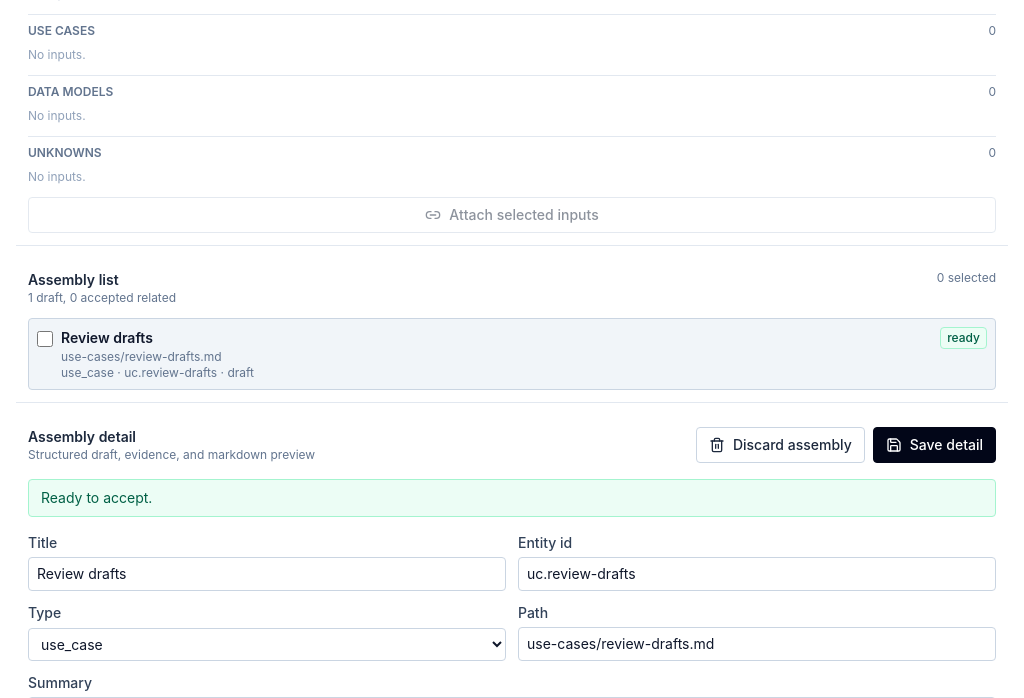
Test: AnalyzeRunReviewPage › shows a neutral partial accept message when some assemblies fail
(page scrolled)
What coordinates should you click on to do the following:
click the checkbox named "Select assembly Review drafts"
I would click on:
 (45, 339)
Its box is [37,331,53,347].
(page scrolled)
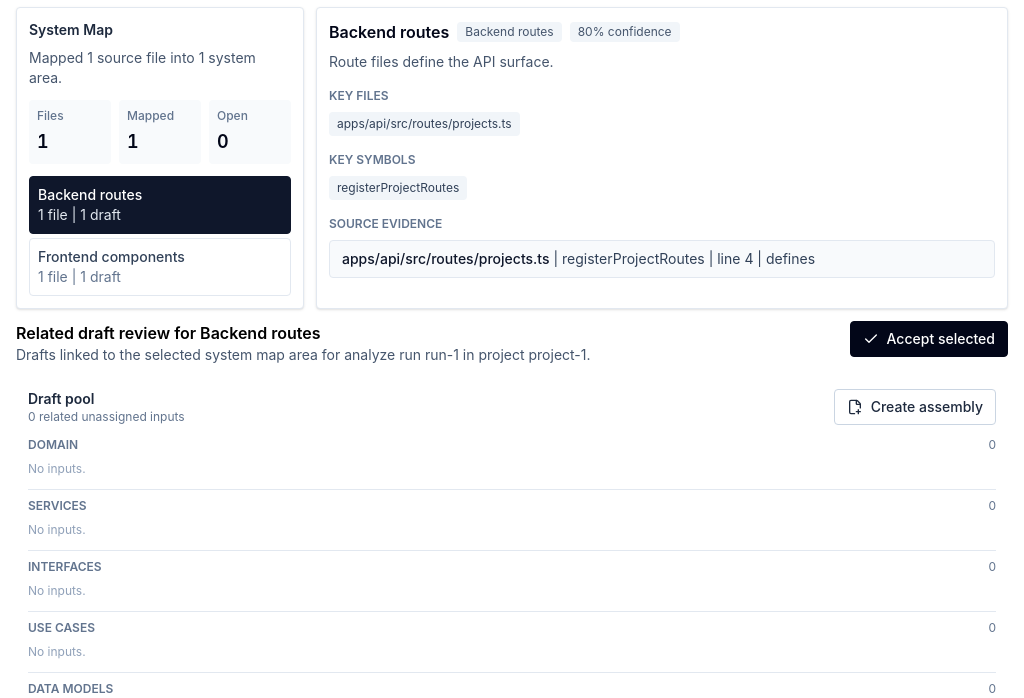
What coordinates should you click on to do the following:
click the button "Accept selected"
I would click on:
 (929, 339)
Its box is [850,321,1008,357].
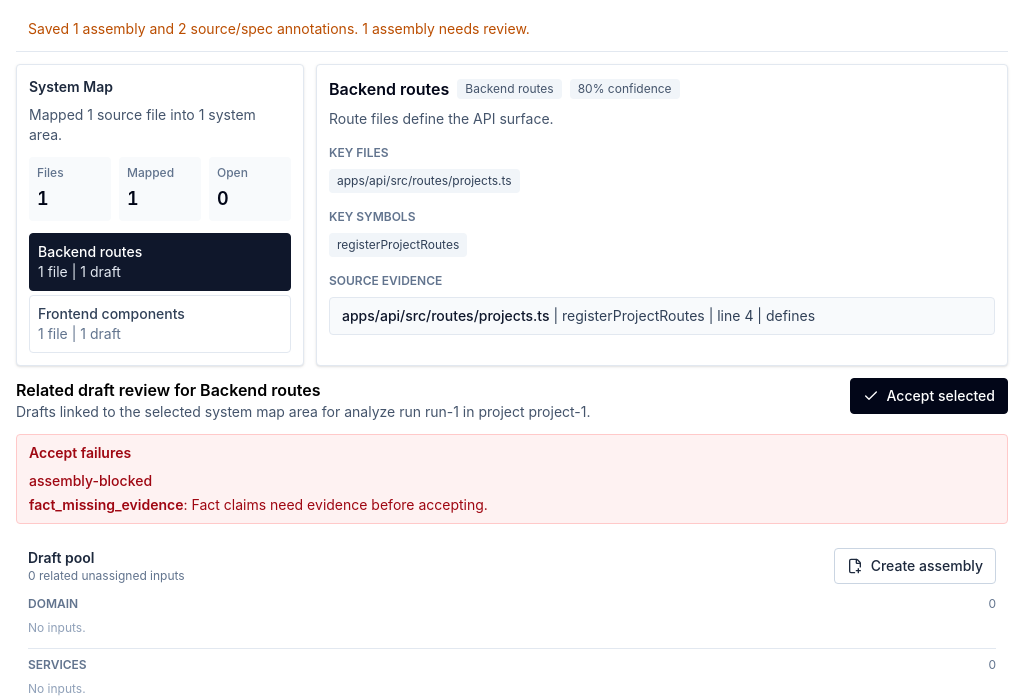
Check: the text "Saved 1 assembly and 2 source/spec annotations. 1 assembly needs review." is shown, box [16,7,1008,52]
Check: the text "Accept failures" is shown, box [29,444,131,461]
